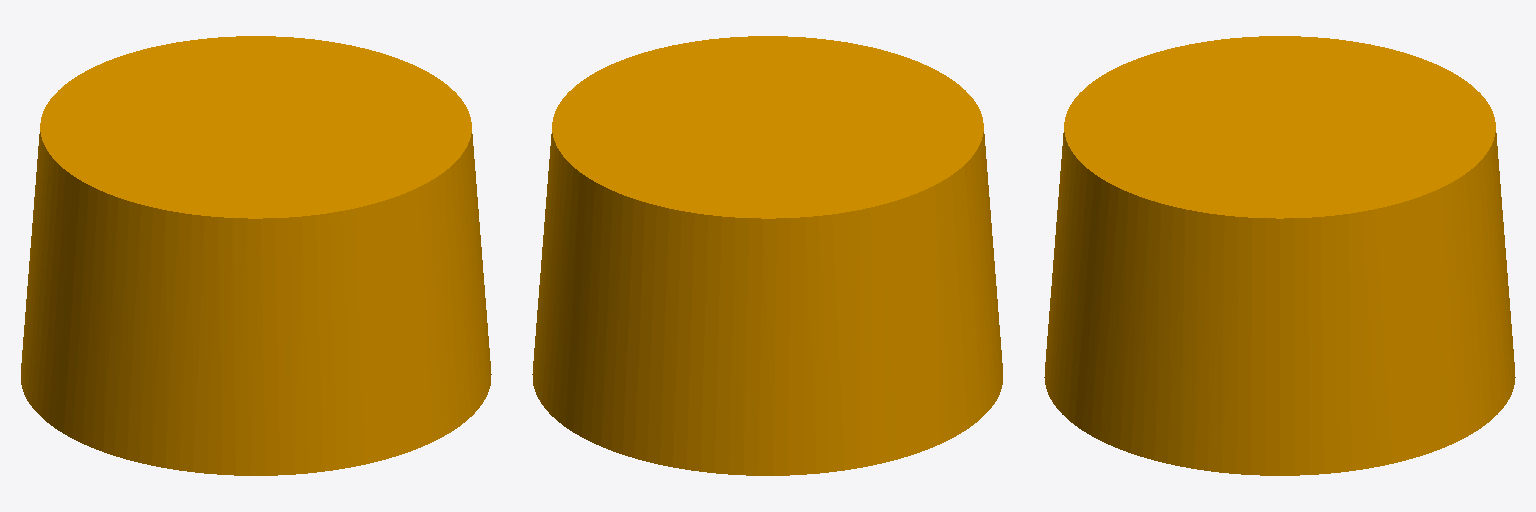
The robot description file, URDF, robot "cocktail_shaker_cap":
<?xml version="1.0"?>
<!--
  Cocktail shaker CAP as an independent rigid body. ORIGIN = center of mass.
  Visual = OBJ, Collision = STL. Mesh paths relative to this URDF. mm -> scale 0.001.

  Assembly: when closed, place this cap at (0,0,0.140335) in the BODY frame
  (= (0,0,0.041375) in the LID frame). Fit inner Ø57.6 over the lid neck Ø57.
-->
<robot name="cocktail_shaker_cap">
  <link name="shaker_cap">
    <inertial>
      <origin xyz="0 0 0" rpy="0 0 0"/>  <!-- origin = center of mass -->
      <mass value="0.0808"/>
      <inertia ixx="3.7989e-05" ixy="0" ixz="0" iyy="3.7989e-05" iyz="0" izz="5.4881e-05"/>
    </inertial>
    <visual>
      <origin xyz="0 0 0" rpy="0 0 0"/>
      <geometry>
        <mesh filename="../meshes/visual/shaker_cap.obj" scale="0.001 0.001 0.001"/>
      </geometry>
    </visual>
    <collision>
      <origin xyz="0 0 0" rpy="0 0 0"/>
      <geometry>
        <mesh filename="../meshes/collision/shaker_cap.stl" scale="0.001 0.001 0.001"/>
      </geometry>
    </collision>
  </link>
</robot>

--- Render facts (derived) ---
The picture shows the robot from 3 angles, left to right: view 1: azimuth 30°, elevation 25°; view 2: azimuth 150°, elevation 25°; view 3: azimuth 270°, elevation 25°; orthographic projection.
Robot: cocktail_shaker_cap — 1 links, 0 joints (none); root link shaker_cap; default pose: all joints at 0.
Links seen in each view (by area): view 1: shaker_cap; view 2: shaker_cap; view 3: shaker_cap.
Link boxes in pixels (x1,y1,x2,y2): shaker_cap: [21, 36, 491, 475]; shaker_cap: [532, 36, 1002, 475]; shaker_cap: [1044, 36, 1515, 475].
Size in the robot's own frame: 0.06 by 0.06 by 0.035 metres.
1 mesh visuals loaded from 1 distinct referenced files (1 OBJ).
